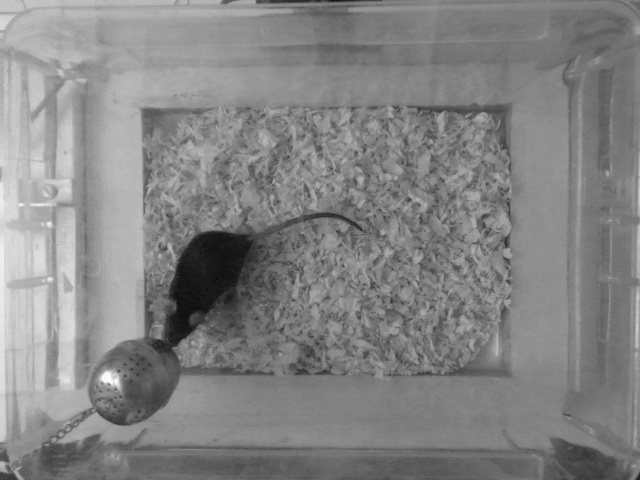mice: (161, 210, 364, 344)
